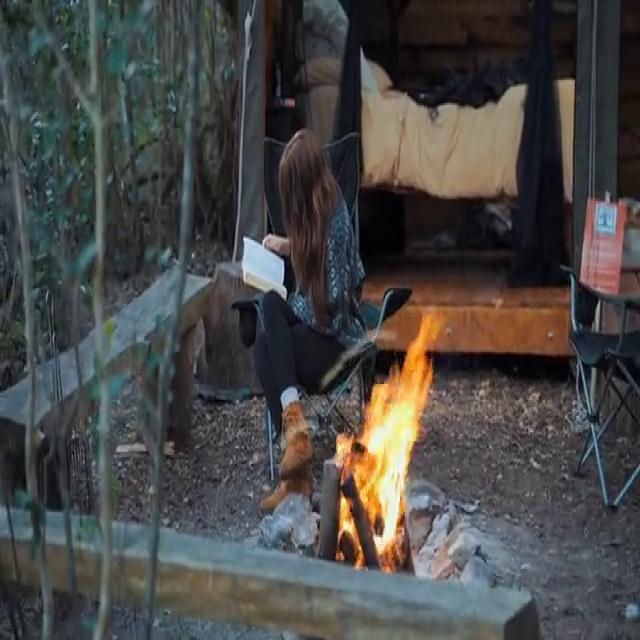Fire: (335, 296, 450, 558)
